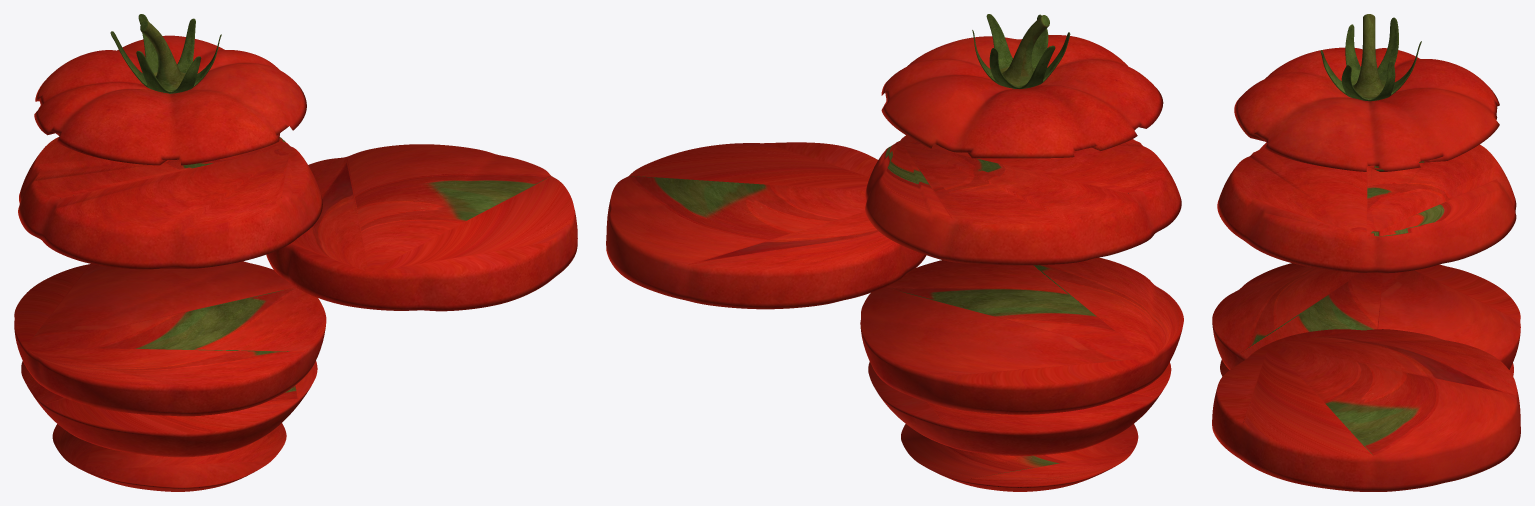
The model's file is tomato.fbx.
3 renders of one model, left to right at view 1: azimuth 30°, elevation 25°; view 2: azimuth 150°, elevation 25°; view 3: azimuth 270°, elevation 25°, orthographic. The views are drawn at different scales.
Parts seen in each view (by area): view 1: 10208_TomatoBeefSteak_v1.003, 10208_TomatoBeefSteak_v1.004, 10208_TomatoBeefSteak_v1.002, 10208_TomatoBeefSteak_v1.001, 10208_TomatoBeefSteak_v1.005, 10208_TomatoBeefSteak_v1; view 2: 10208_TomatoBeefSteak_v1.004, 10208_TomatoBeefSteak_v1.003, 10208_TomatoBeefSteak_v1.002, 10208_TomatoBeefSteak_v1.001, 10208_TomatoBeefSteak_v1.005, 10208_TomatoBeefSteak_v1; view 3: 10208_TomatoBeefSteak_v1.003, 10208_TomatoBeefSteak_v1.002, 10208_TomatoBeefSteak_v1.001, 10208_TomatoBeefSteak_v1.004.
Part boxes in pixels (<box>): 10208_TomatoBeefSteak_v1.003: <box>266,144,577,311</box>; 10208_TomatoBeefSteak_v1.004: <box>14,261,326,416</box>; 10208_TomatoBeefSteak_v1.002: <box>18,137,322,269</box>; 10208_TomatoBeefSteak_v1.001: <box>34,14,306,165</box>; 10208_TomatoBeefSteak_v1.005: <box>21,361,317,457</box>; 10208_TomatoBeefSteak_v1: <box>52,423,286,491</box>; 10208_TomatoBeefSteak_v1.004: <box>860,257,1183,414</box>; 10208_TomatoBeefSteak_v1.003: <box>606,142,926,309</box>; 10208_TomatoBeefSteak_v1.002: <box>865,135,1181,265</box>; 10208_TomatoBeefSteak_v1.001: <box>881,14,1163,158</box>; 10208_TomatoBeefSteak_v1.005: <box>868,362,1171,455</box>; 10208_TomatoBeefSteak_v1: <box>901,424,1138,491</box>; 10208_TomatoBeefSteak_v1.003: <box>1212,329,1520,491</box>; 10208_TomatoBeefSteak_v1.002: <box>1217,142,1516,273</box>; 10208_TomatoBeefSteak_v1.001: <box>1234,14,1499,171</box>; 10208_TomatoBeefSteak_v1.004: <box>1212,263,1520,369</box>.
Bounding box in the file's own units: 2381 × 1983 × 1245.
1 material, 1 textured.
